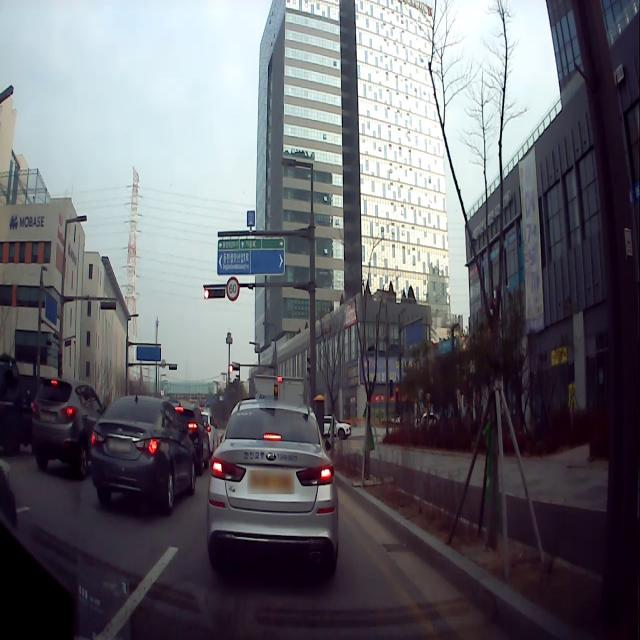Red Light: (204, 287, 209, 301), (229, 365, 233, 373)
